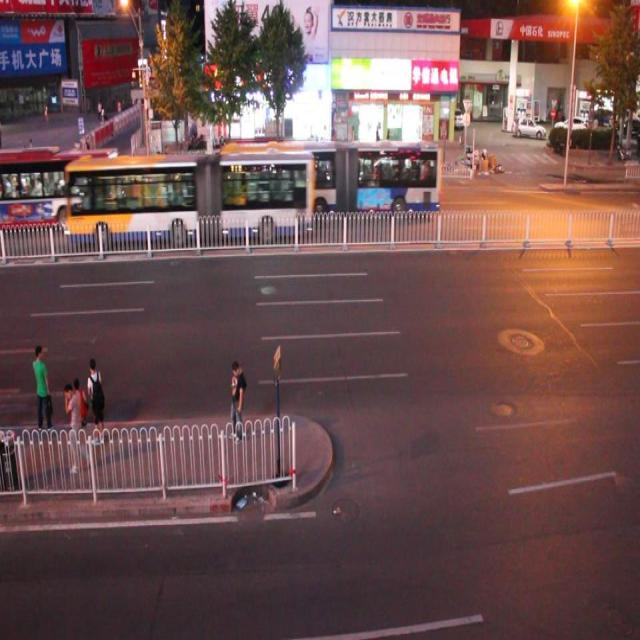car: (68, 180, 128, 222), (360, 164, 410, 208), (190, 160, 233, 203), (284, 159, 329, 194), (18, 180, 60, 215), (1, 164, 14, 202)
van: (63, 151, 314, 239), (218, 139, 440, 218), (1, 146, 119, 232)
